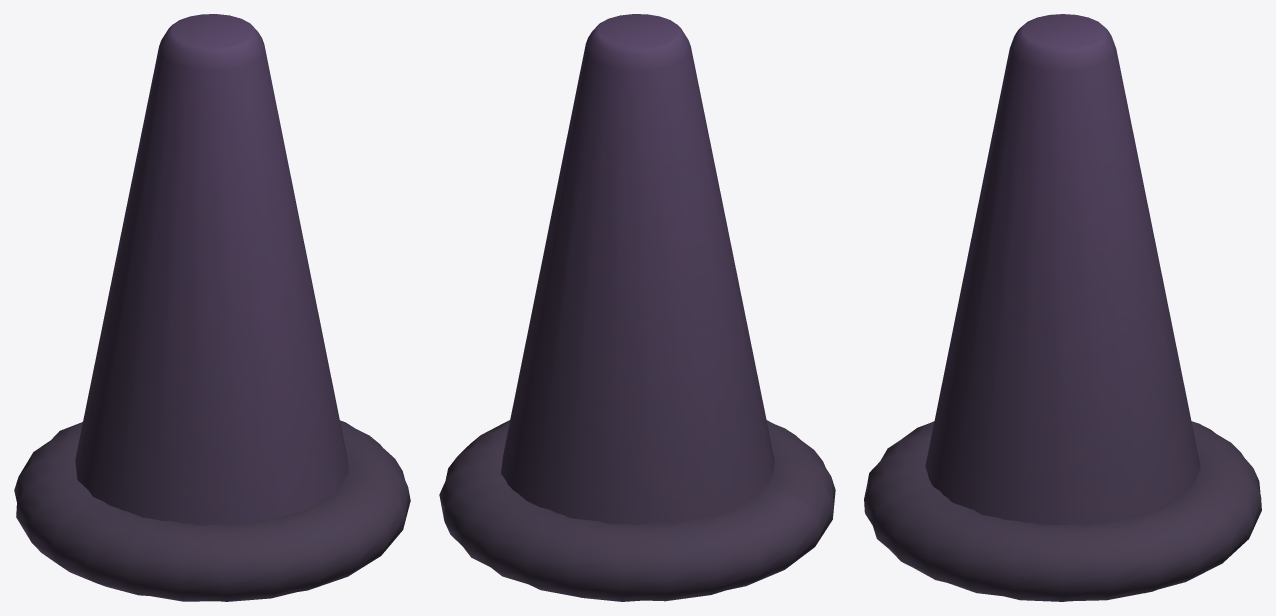
File: magichat.fbx
3 views of the same model, side by side, from view 1: azimuth 30°, elevation 25°; view 2: azimuth 150°, elevation 25°; view 3: azimuth 270°, elevation 25° (orthographic).
Parts seen in each view (by area): view 1: Magichat; view 2: Magichat; view 3: Magichat.
Boxes of the visible parts, left/top/right/bottom form: Magichat: left=14, top=14, right=410, bottom=601; Magichat: left=439, top=14, right=835, bottom=601; Magichat: left=864, top=14, right=1261, bottom=601.
Bounding box in the file's own units: 84.15 × 118 × 84.69.
